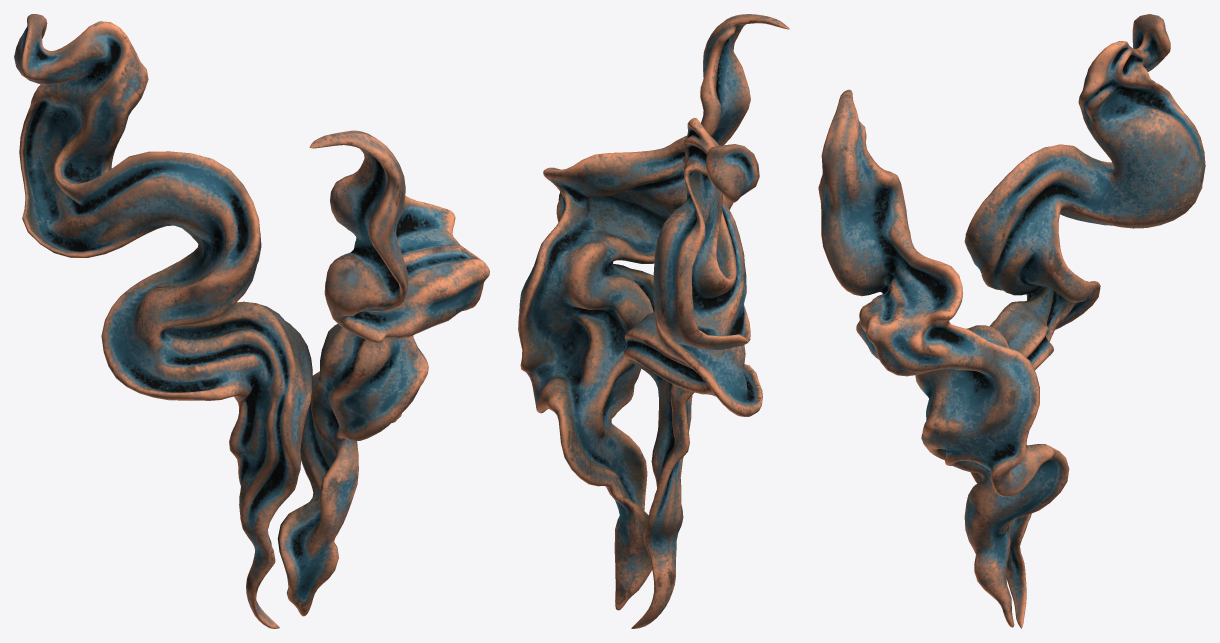
Rendered from abstract_waves.glb.
The picture shows the model from 3 angles, left to right: view 1: azimuth 30°, elevation 25°; view 2: azimuth 150°, elevation 25°; view 3: azimuth 270°, elevation 25°; orthographic projection. The views are drawn at different scales.
Visible parts, largest first — view 1: __mesh_1; view 2: __mesh_1; view 3: __mesh_1.
Part boxes in pixels (<box>): __mesh_1: <box>14,14,489,628</box>; __mesh_1: <box>518,14,789,628</box>; __mesh_1: <box>818,14,1205,628</box>.
Bounding box in the file's own units: 0.6372 × 1.11 × 0.7269.
Materials: 1 (1 with a texture image).
